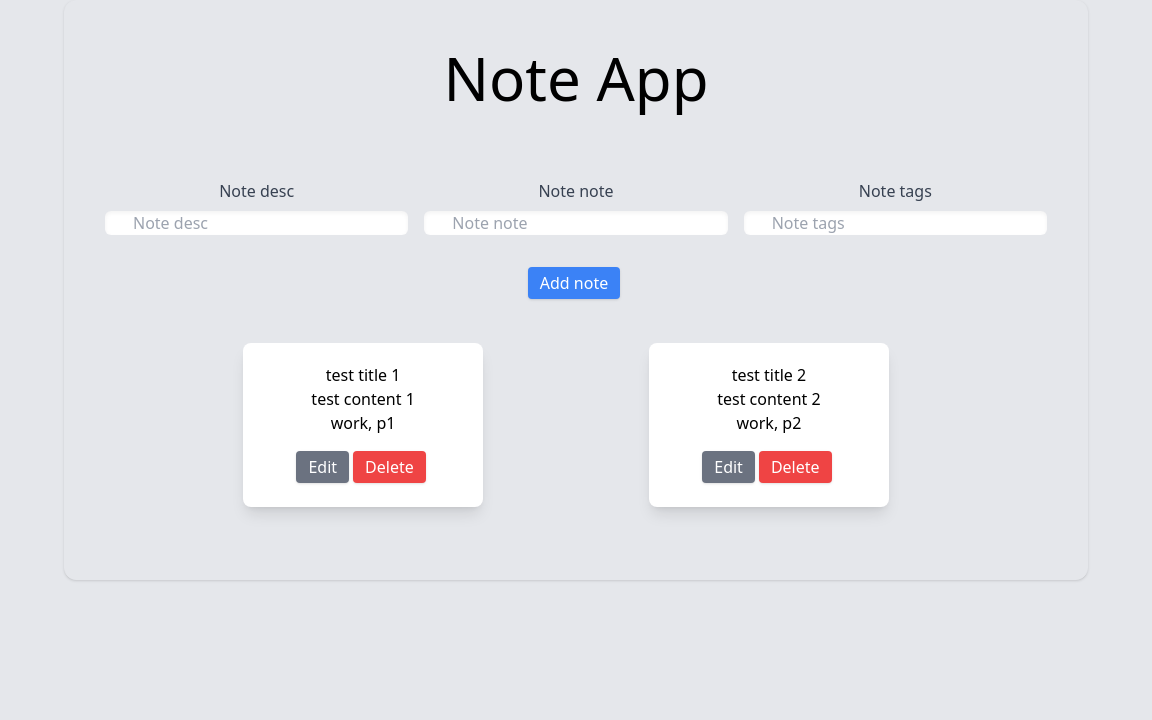
test the app can do crud functions › Should add a note
The width and height of the screenshot is (1152, 720).
Type "manual test desc 1" into the field with placeholder "Note desc". click: [257, 223]
box: [105,211,408,235]
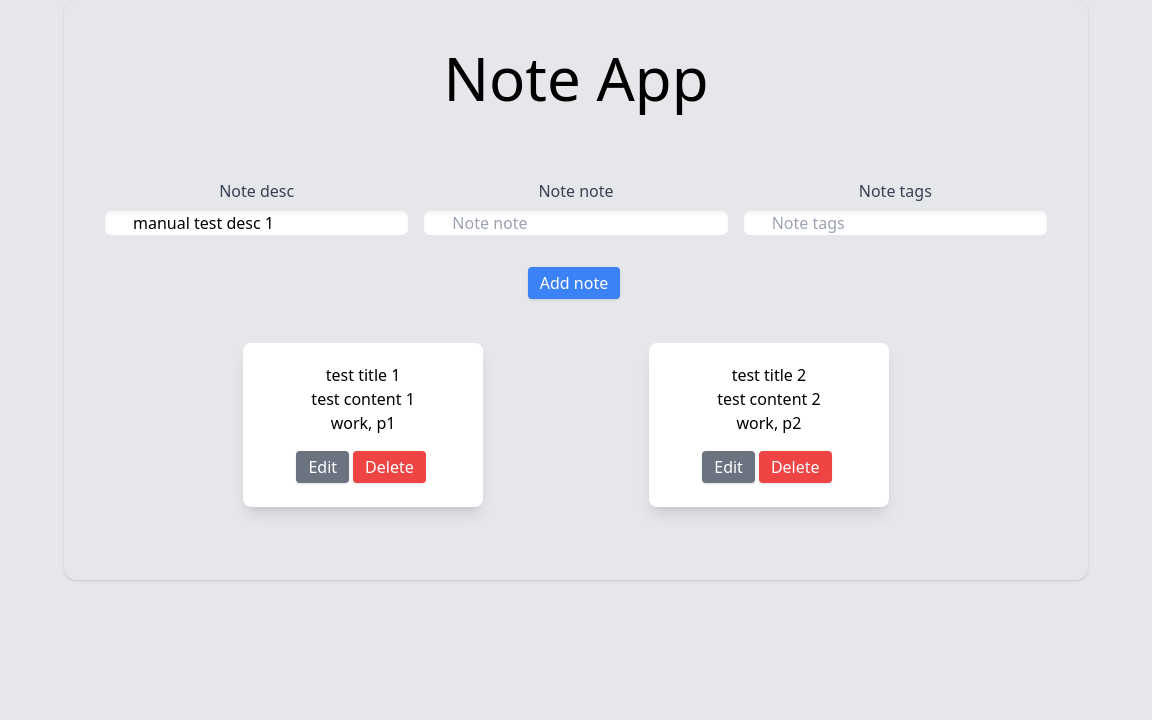
Type "manual test note 1" into the field with placeholder "Note note". click: [576, 223]
box: [424,211,728,235]
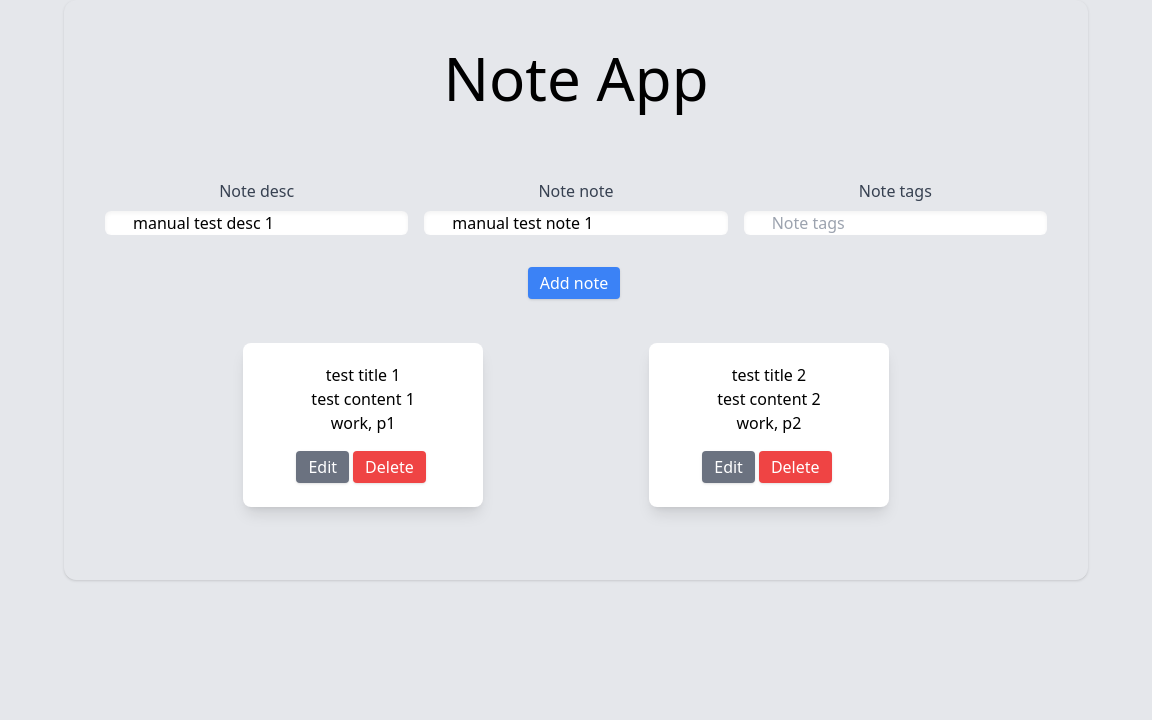
Type "manual test, tag1" into the field with placeholder "Note tags". click: [895, 223]
box: [744,211,1047,235]
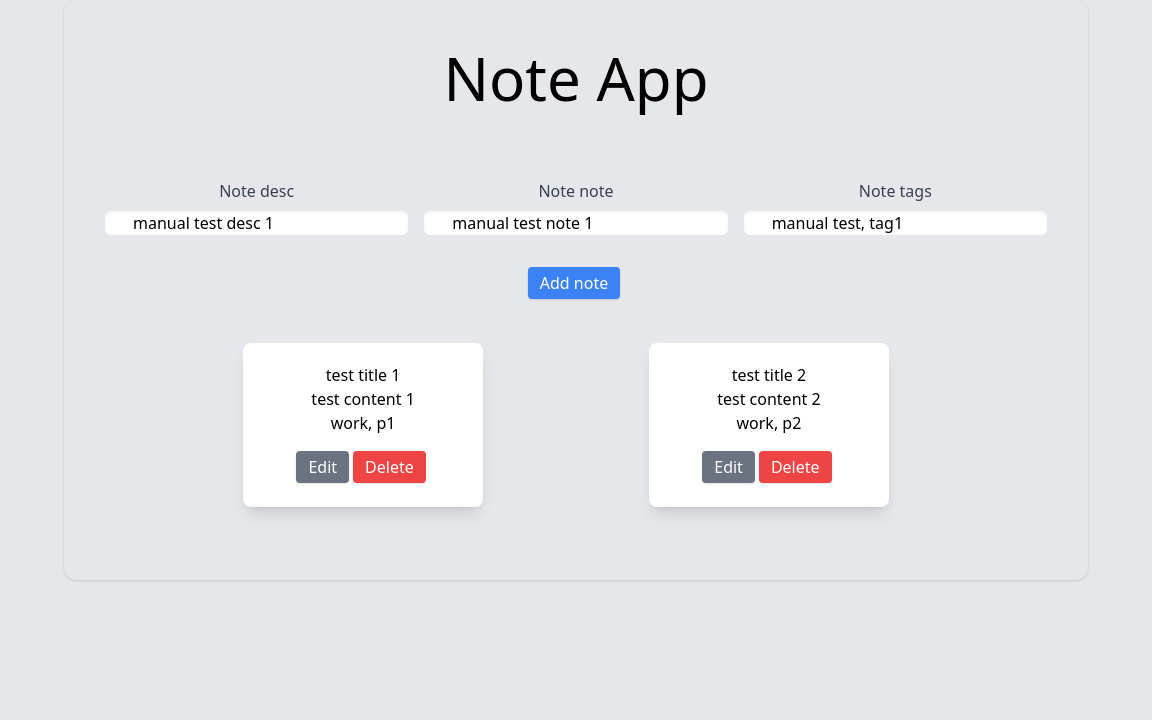
Click the button "Add note". click: [574, 283]
box: [528,267,620,299]
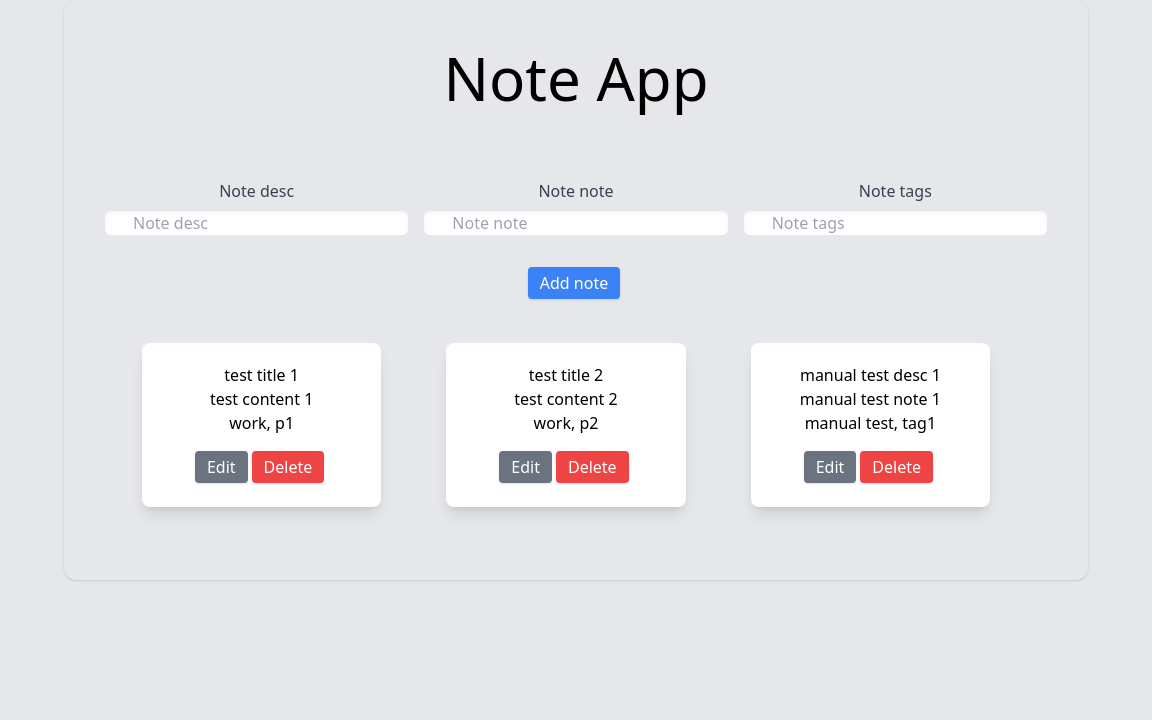
Expected: the text "manual test desc 1" is shown, [800,364,941,386]
Expected: the text "manual test note 1" is shown, [800,388,941,410]
